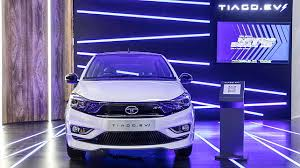Tiago: (60, 47, 198, 161)
